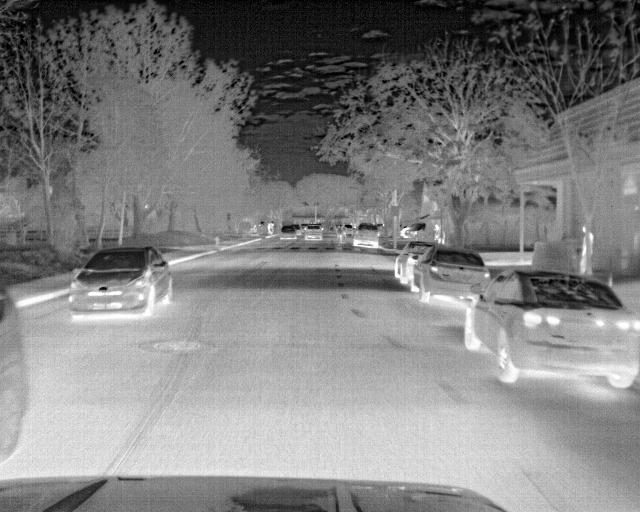car: (462, 265, 638, 391), (65, 244, 174, 320), (0, 283, 29, 464), (410, 248, 490, 306), (394, 243, 434, 283), (349, 225, 379, 249), (300, 222, 324, 242), (277, 223, 300, 241)
